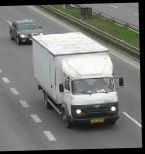truck: (31, 31, 118, 129)
